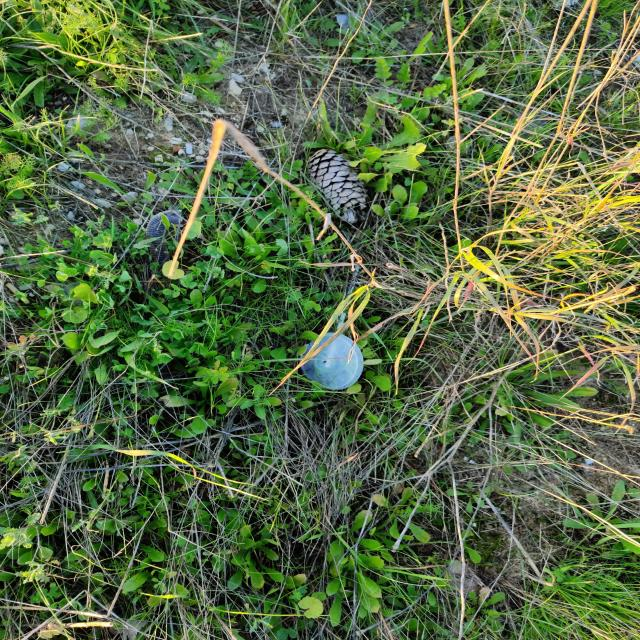litter: (295, 331, 371, 393)
